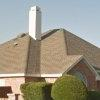Chimney: (24, 3, 53, 53)
